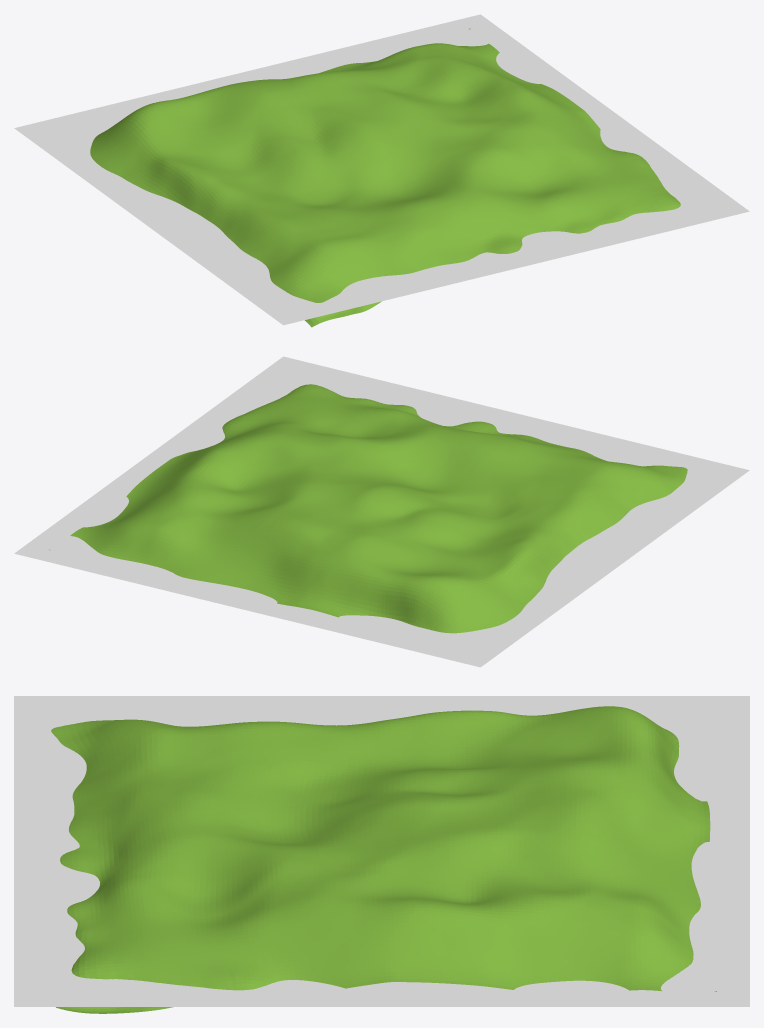
The picture shows the model from 3 angles, top to bottom: view 1: azimuth 30°, elevation 25°; view 2: azimuth 150°, elevation 25°; view 3: azimuth 270°, elevation 25°; orthographic projection. The views are drawn at different scales.
Visible parts, largest first — view 1: Plane, Plane.001; view 2: Plane, Plane.001; view 3: Plane, Plane.001.
Part boxes in pixels (x1,y1,x2,y2): Plane: (90, 28, 680, 327); Plane.001: (14, 14, 749, 325); Plane: (49, 384, 687, 633); Plane.001: (14, 356, 749, 667); Plane: (51, 706, 716, 1013); Plane.001: (14, 696, 749, 1006).
Size of the model in its own units: 110000 by 12507 by 110000.
